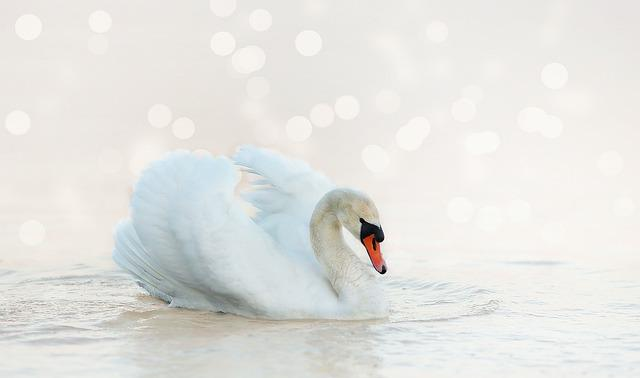bird: (112, 147, 388, 319)
